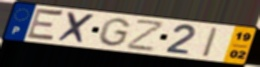2: (164, 23, 198, 58)
E: (24, 6, 66, 43)
G: (96, 16, 134, 48)
I: (200, 26, 220, 59)
X: (55, 11, 98, 46)
Z: (125, 19, 167, 53)
